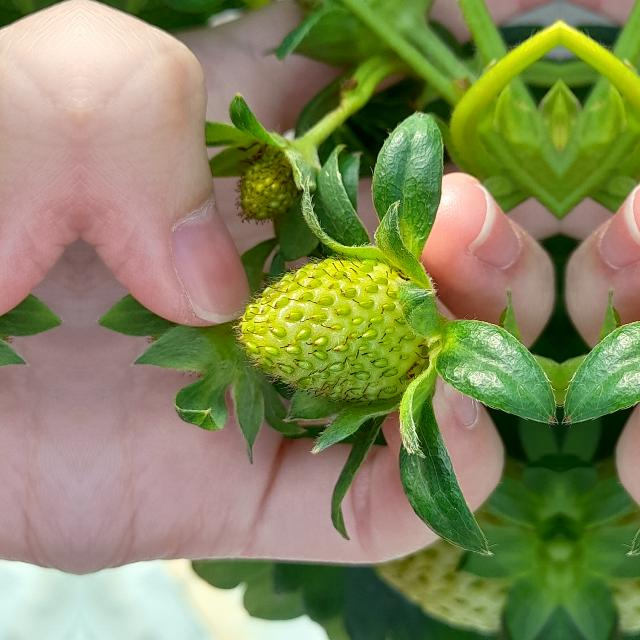Health_25: (230, 250, 426, 406), (238, 134, 314, 222)
